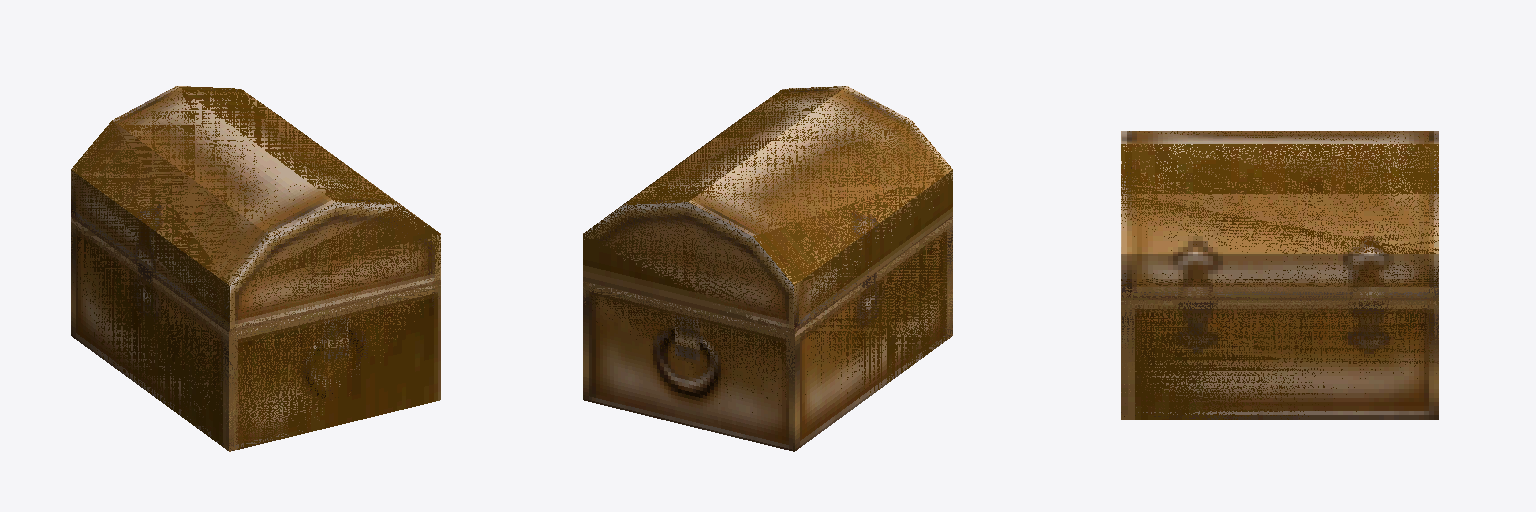
The picture shows the model from 3 angles: view 1: azimuth 30°, elevation 25°; view 2: azimuth 150°, elevation 25°; view 3: azimuth 270°, elevation 25°; orthographic projection.
Parts seen in each view (by area): view 1: skbronzechestTex0; view 2: skbronzechestTex0; view 3: skbronzechestTex0.
Boxes of the visible parts, box(x1,y1,x2,y2) form: skbronzechestTex0: box(71, 86, 440, 451); skbronzechestTex0: box(583, 86, 952, 451); skbronzechestTex0: box(1121, 131, 1438, 419).
Bounding box in the file's own units: 24.02 × 24.26 × 31.2.
1 materials, 1 textured.